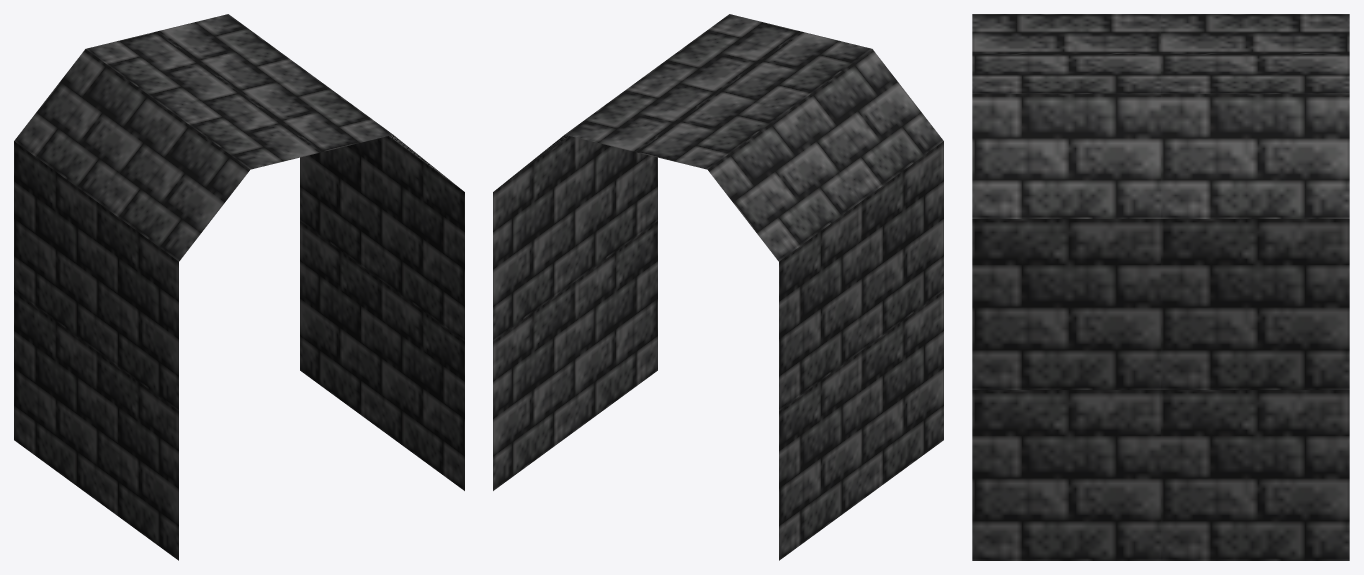
The model's file is Dungeon_TunnelSegment_Placeholder.fbx.
3 views of the same model, side by side, from view 1: azimuth 30°, elevation 25°; view 2: azimuth 150°, elevation 25°; view 3: azimuth 270°, elevation 25° (orthographic). The views are drawn at different scales.
Visible parts, largest first — view 1: Wall_North.004; view 2: Wall_North.004; view 3: Wall_North.004.
Boxes of the visible parts, x1,y1,x2,y2 form: Wall_North.004: (14, 14, 464, 560); Wall_North.004: (493, 14, 943, 560); Wall_North.004: (972, 14, 1349, 560).
Bounding box in the file's own units: 200 × 250 × 200.
